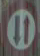Two way: (6, 3, 39, 52)
